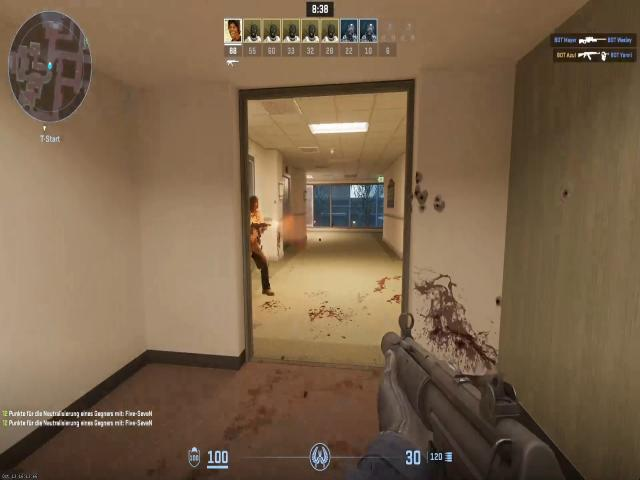T: (249, 189, 268, 251)
T-Head: (248, 194, 260, 210)
